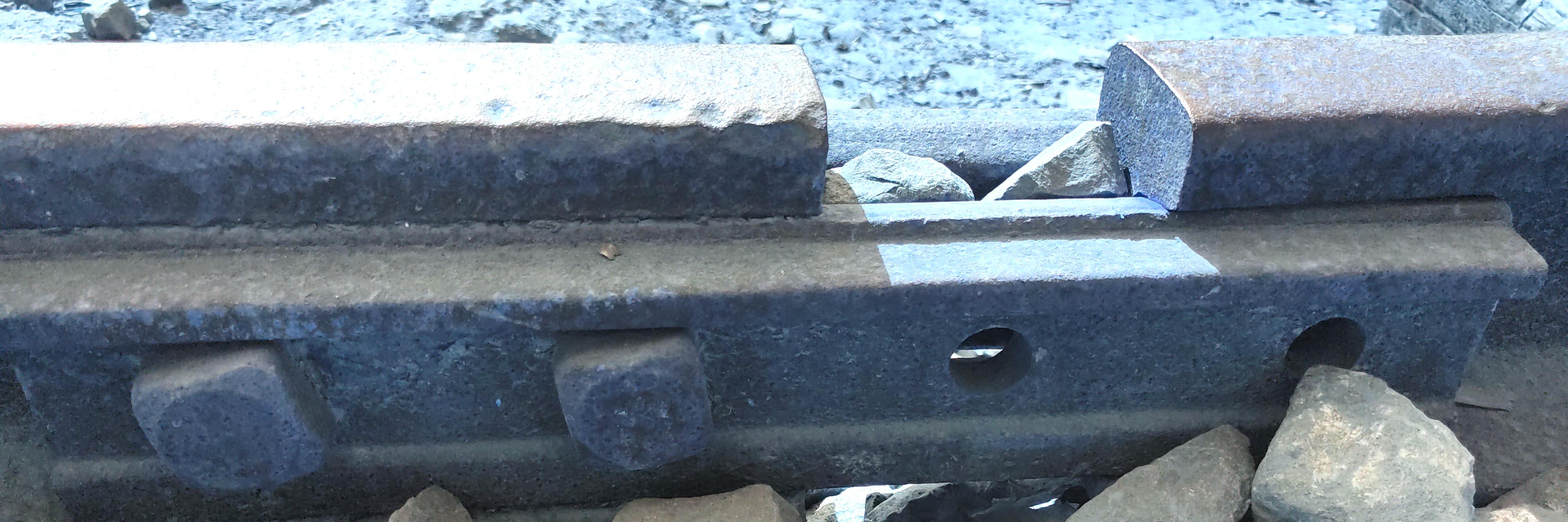duan lie: (766, 31, 1203, 253)
